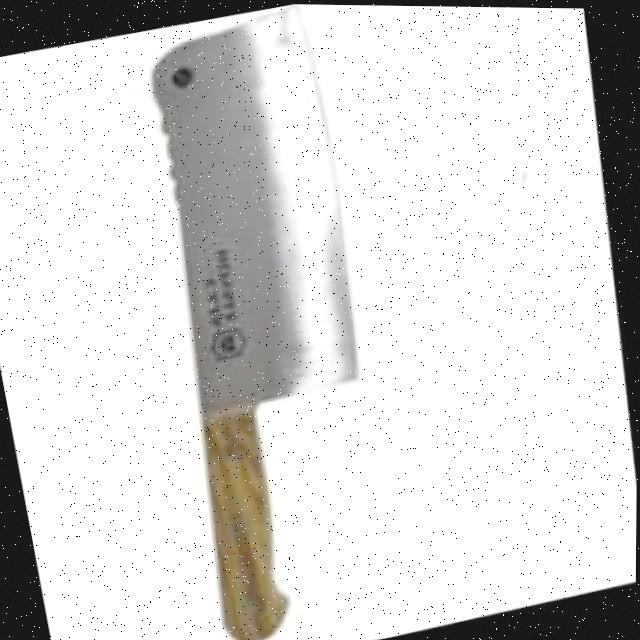knife: (107, 1, 426, 640)
